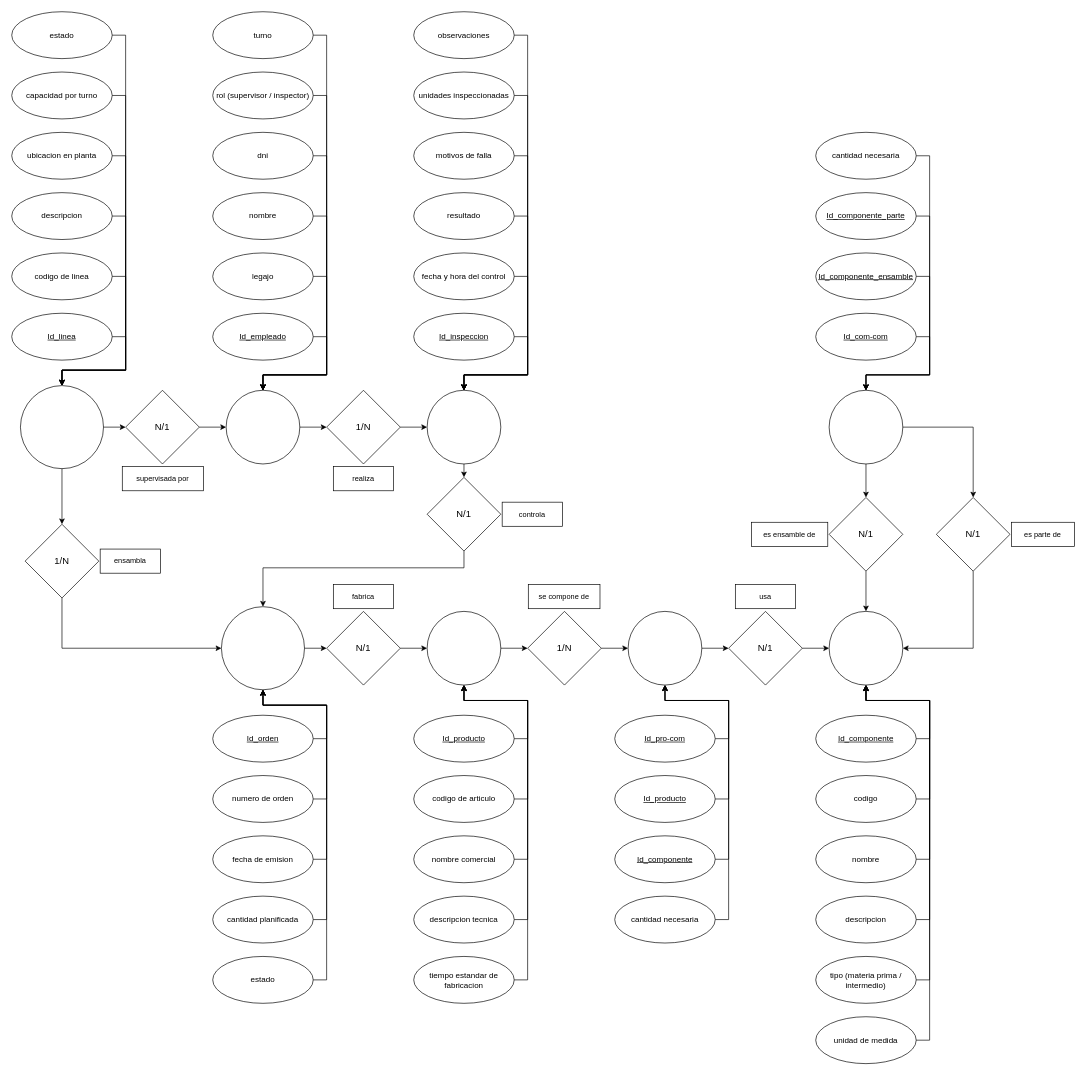
Some shapes in this 1086 by 1075 pixel diagram are drawn without their labels. Each missing label, with the centre of its shape:
"COM-COM" belongs at pixel 865 427.
"COMPONENTE" belongs at pixel 865 648.
"EMPLEADO" belongs at pixel 262 427.
"INSPECCION" belongs at pixel 463 427.
"LINEA DE MONTAJE" belongs at pixel 62 427.
"ORDEN DE FABRICACION" belongs at pixel 263 648.
"PRO-COM" belongs at pixel 664 648.
"PRODUCTO" belongs at pixel 463 648.
